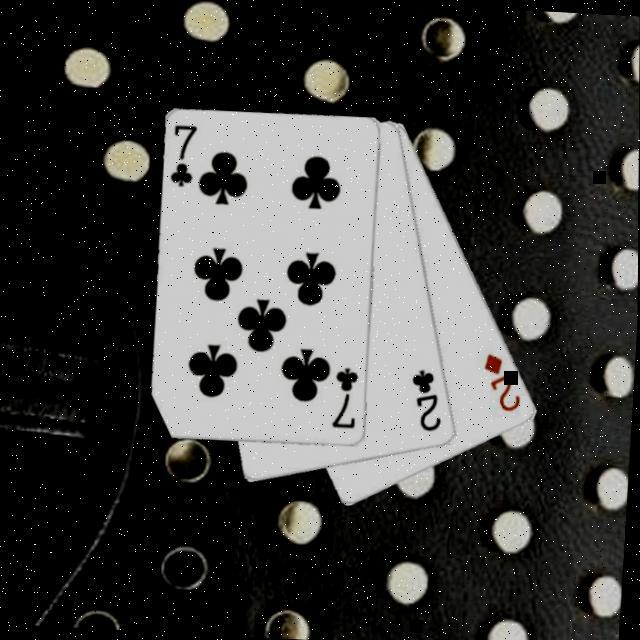2C: (408, 365, 450, 435)
2D: (481, 349, 528, 415)
7C: (169, 120, 201, 190), (330, 364, 363, 431)
